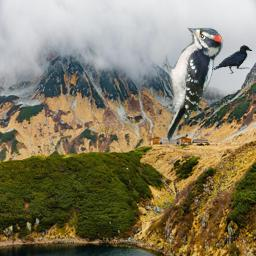Crow: (211, 45, 252, 74)
Woodpecker: (162, 24, 224, 143)
